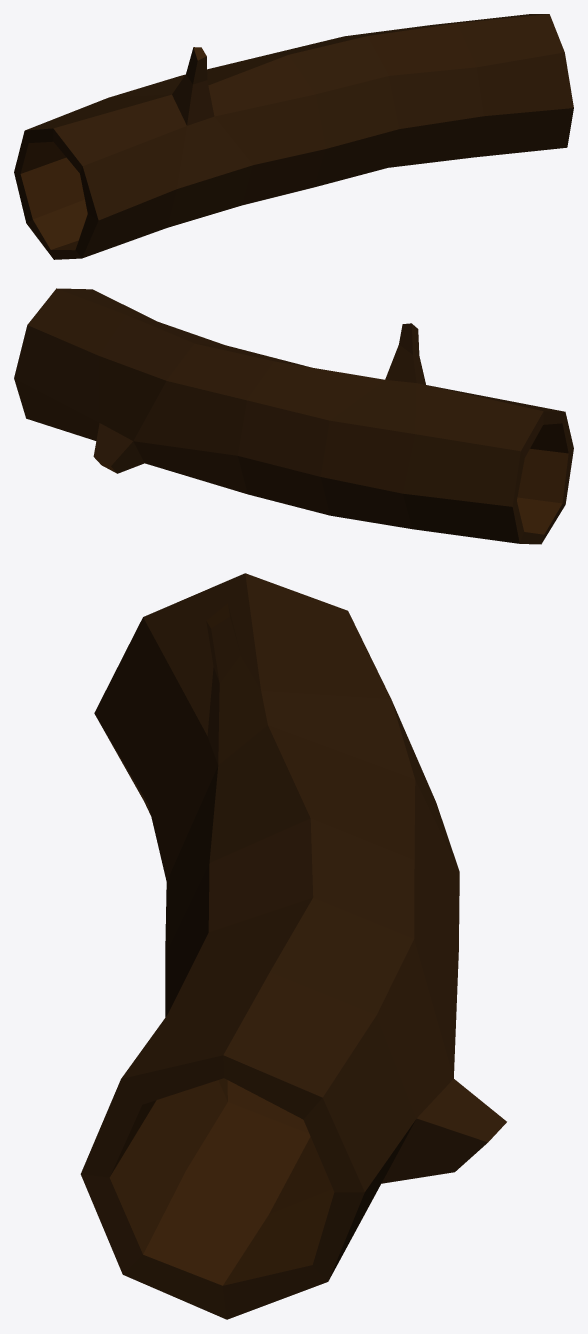
Rendered from treetrunk2.fbx.
The picture shows the model from 3 angles, top to bottom: view 1: azimuth 30°, elevation 25°; view 2: azimuth 150°, elevation 25°; view 3: azimuth 270°, elevation 25°; orthographic projection. The views are drawn at different scales.
Parts seen in each view (by area): view 1: Cylinder; view 2: Cylinder; view 3: Cylinder.
Part boxes in pixels (x1,y1,x2,y2): Cylinder: [14, 14, 573, 259]; Cylinder: [14, 288, 573, 544]; Cylinder: [80, 573, 506, 1319].
Size of the model in its own units: 3.03 by 1.08 by 1.11.
